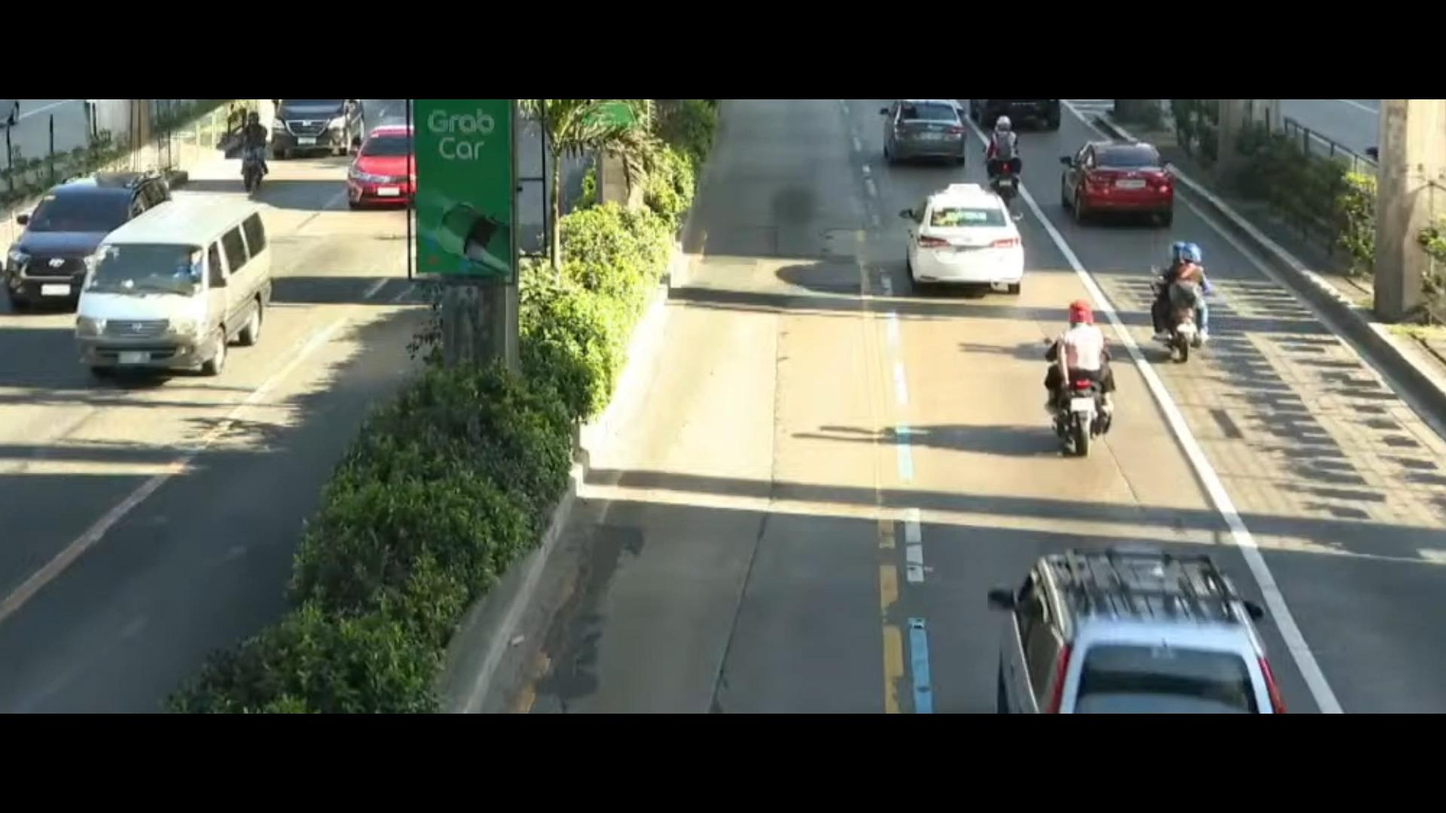Motorcycle: (1013, 290, 1143, 464), (1137, 228, 1241, 389), (974, 110, 1043, 208), (235, 104, 281, 200)
SUV: (959, 529, 1279, 717), (0, 149, 183, 304)
Sedan: (888, 172, 1034, 304), (1053, 115, 1203, 237), (878, 93, 985, 169), (330, 122, 417, 215)
Van: (56, 202, 285, 398), (260, 98, 371, 163)
